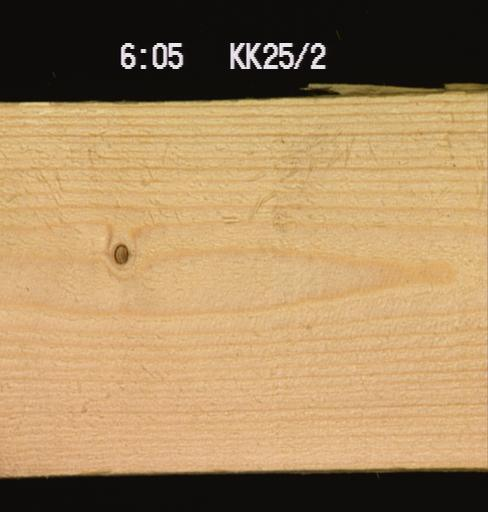dry_knot: (110, 240, 130, 265)
